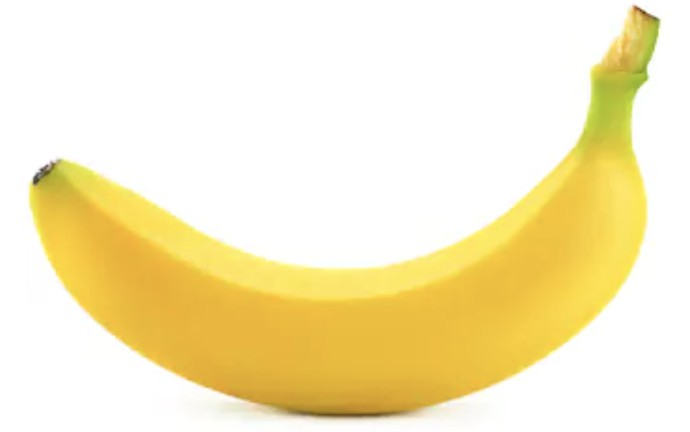fresh_banana: (30, 6, 661, 414)
